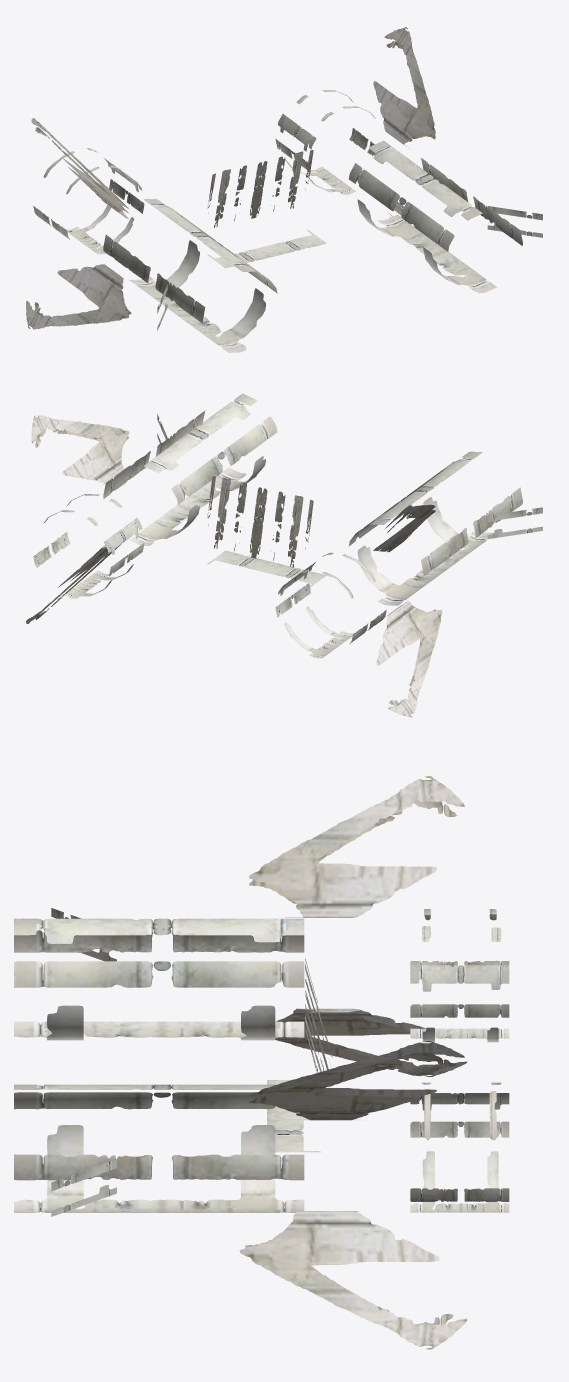
The model's file is awing_engine_s02_l0.fbx.
The picture shows the model from 3 angles, top to bottom: view 1: azimuth 30°, elevation 25°; view 2: azimuth 150°, elevation 25°; view 3: azimuth 270°, elevation 25°; orthographic projection. The views are drawn at different scales.
Parts seen in each view (by area): view 1: mesh_node; view 2: mesh_node; view 3: mesh_node.
Part boxes in pixels (left/top/right/bottom): mesh_node: left=26, top=27, right=542, bottom=352; mesh_node: left=26, top=393, right=542, bottom=717; mesh_node: left=14, top=776, right=509, bottom=1349.
Size of the model in its own units: 7.94 by 4.36 by 6.45.
1 material, 1 textured.
